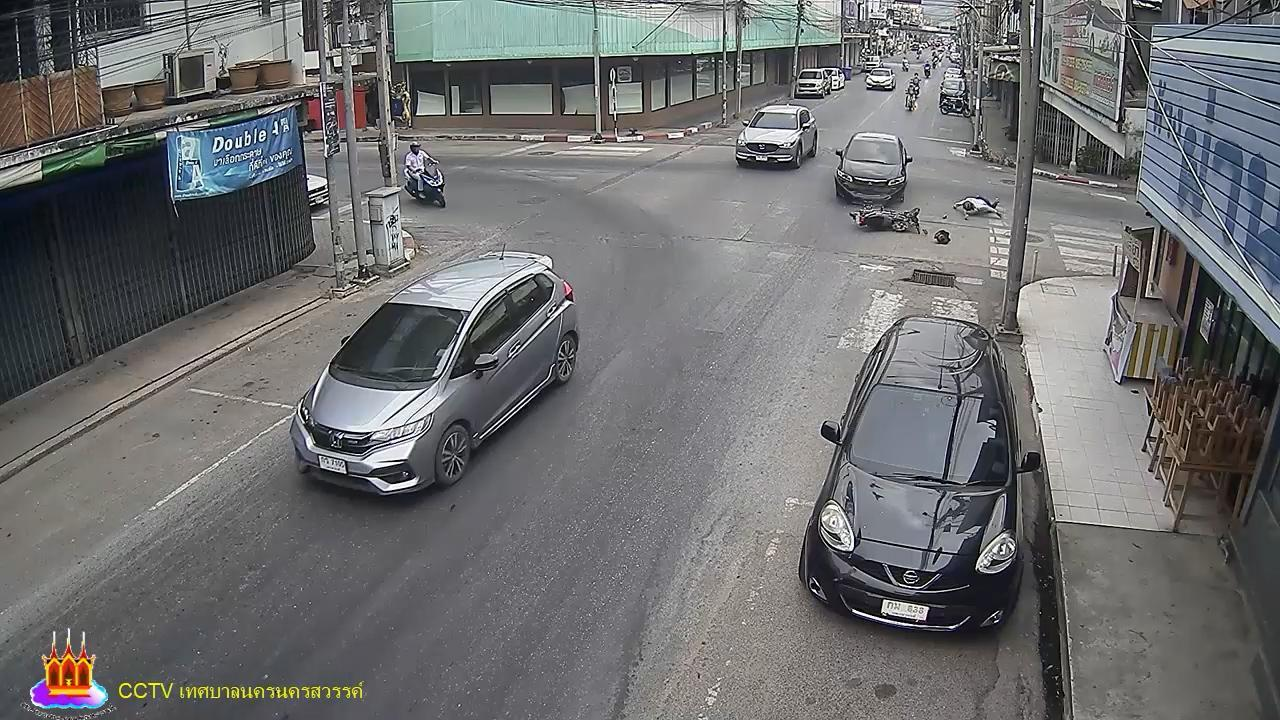accident: (951, 194, 1006, 221)
